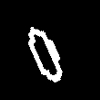chain: (29, 27, 61, 81)
